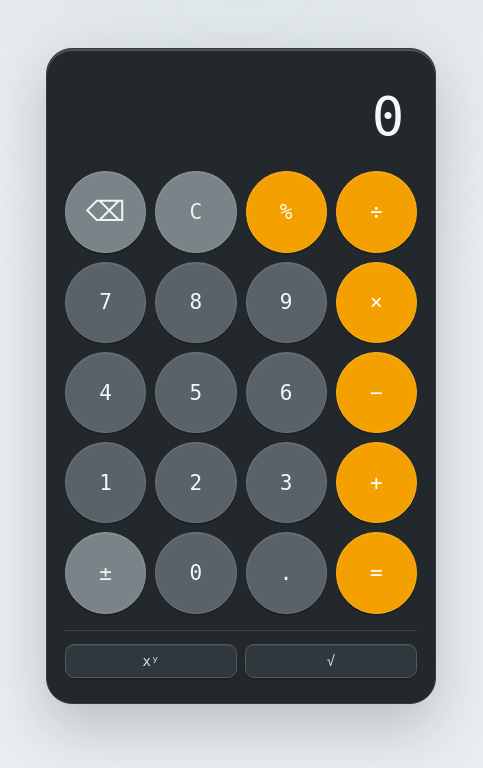
traditional calculator › evaluates consecutive operations with immediate calculator semantics
Click the button "2": (196, 483) [155,442,237,523]
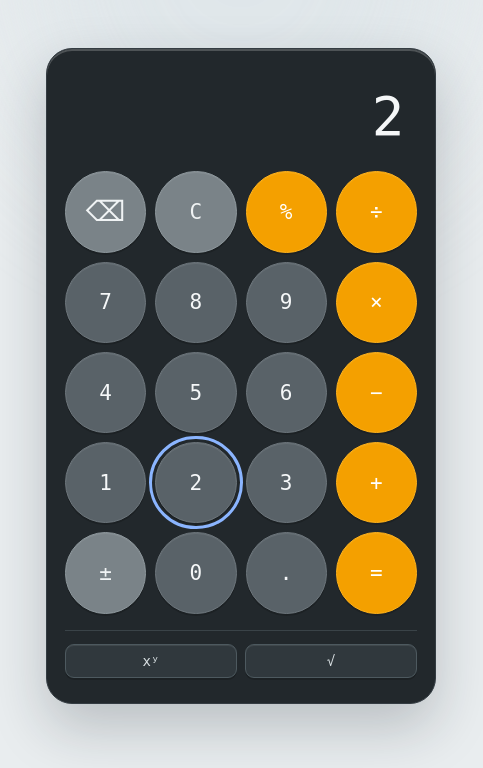
Click the button named "Add": (376, 483) [336,442,417,523]
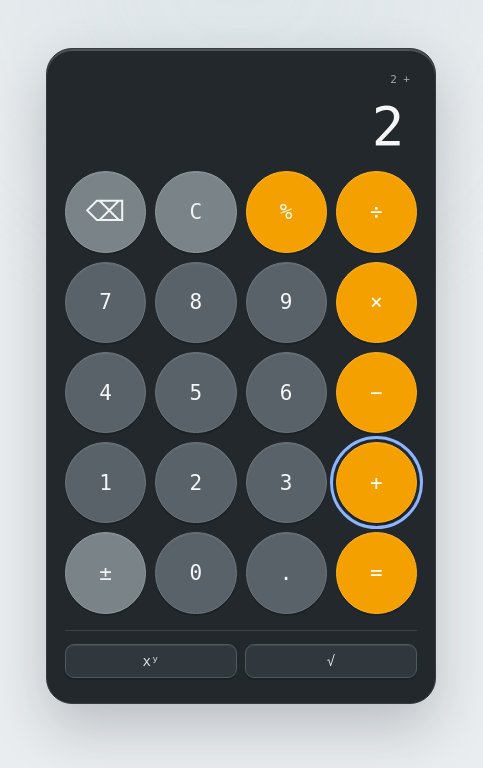
Click the button "3": (286, 483) [246,442,327,523]
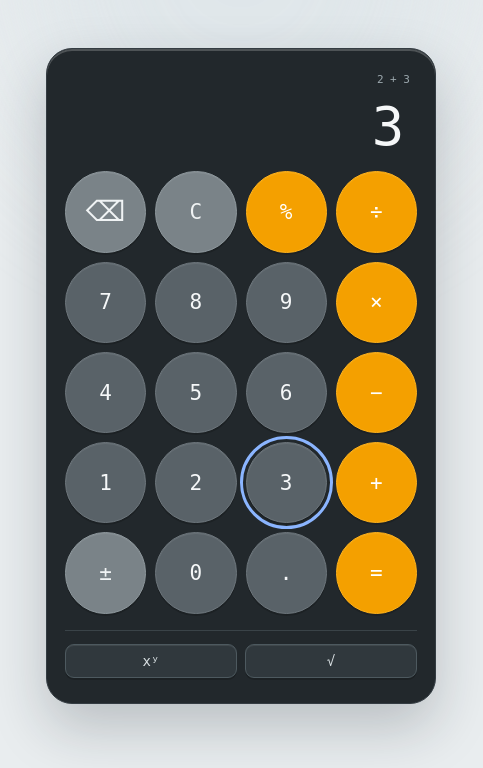
Click the button named "Multiply": (376, 302) [336,262,417,343]
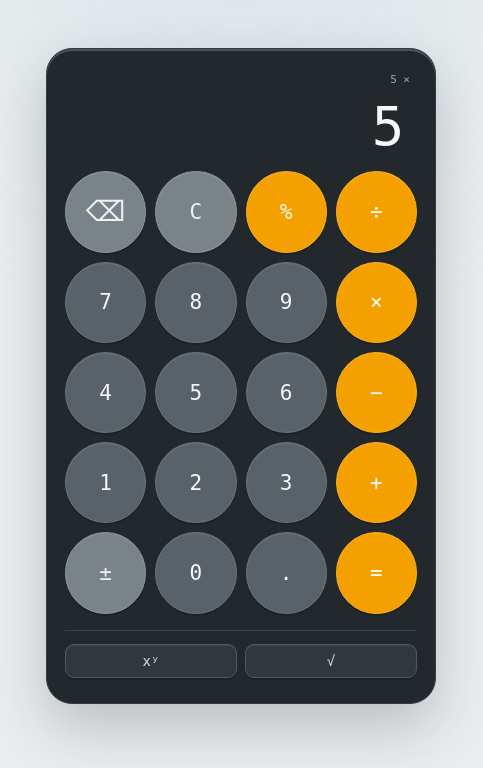
Click the button "4": (106, 393) [65,352,146,433]
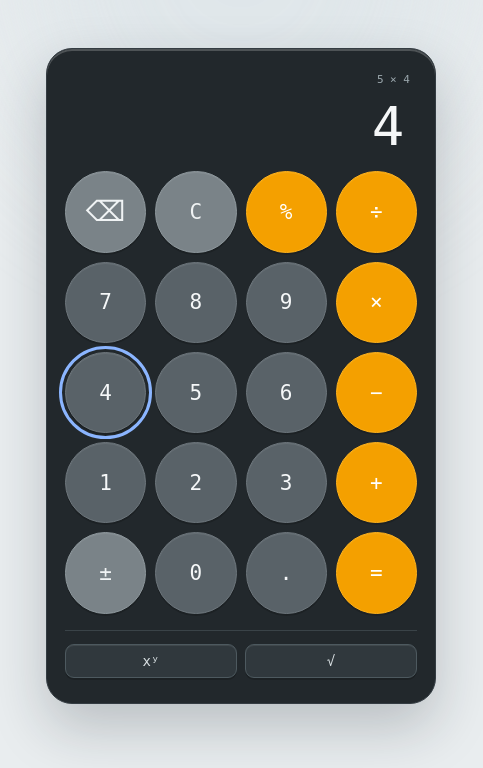
Click the button named "Equals": (376, 573) [336,532,417,614]
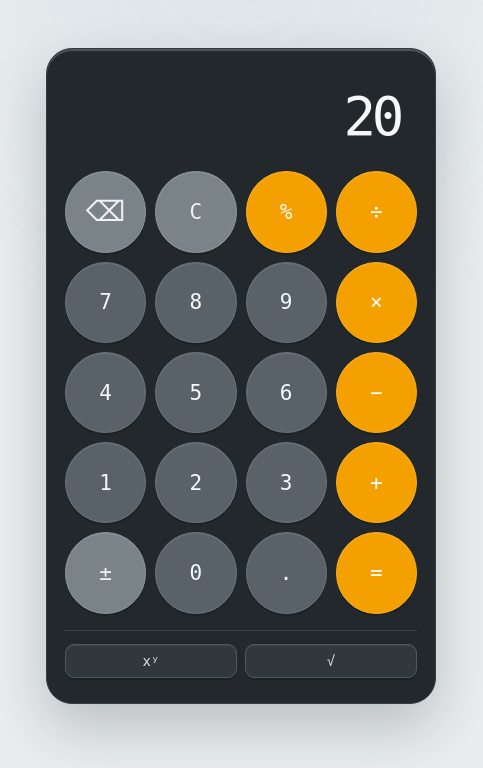
Expected: the text named "Calculator display" reads "20", [344,85,400,148]
